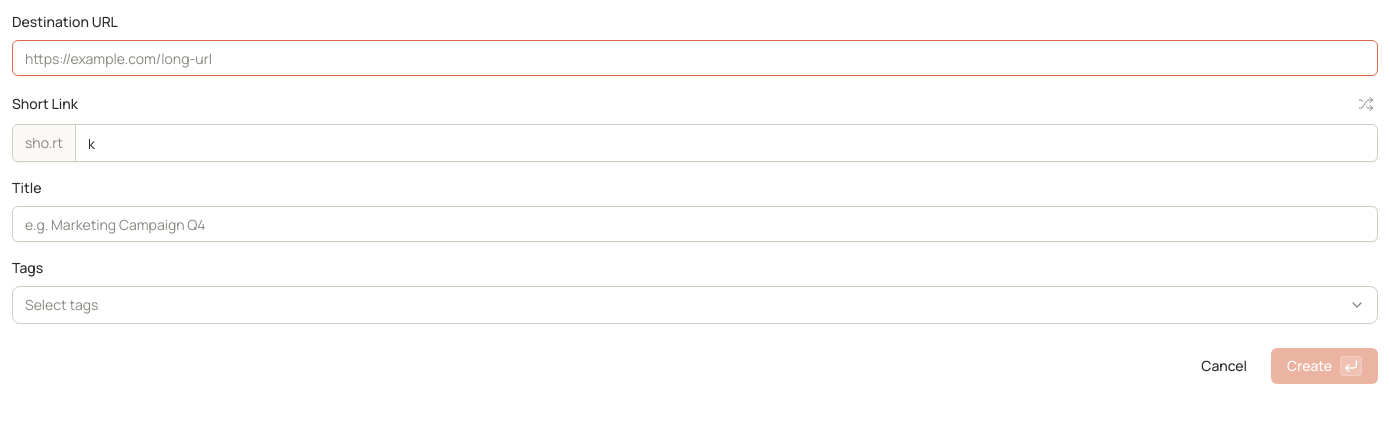
Test: LinkFormFields › submission › does not submit and reports an invalid URL
This screenshot has width=1390, height=421.
Type "invalid url" into the field labelled "Destination URL". click: (695, 58)
box: [12, 40, 1378, 76]
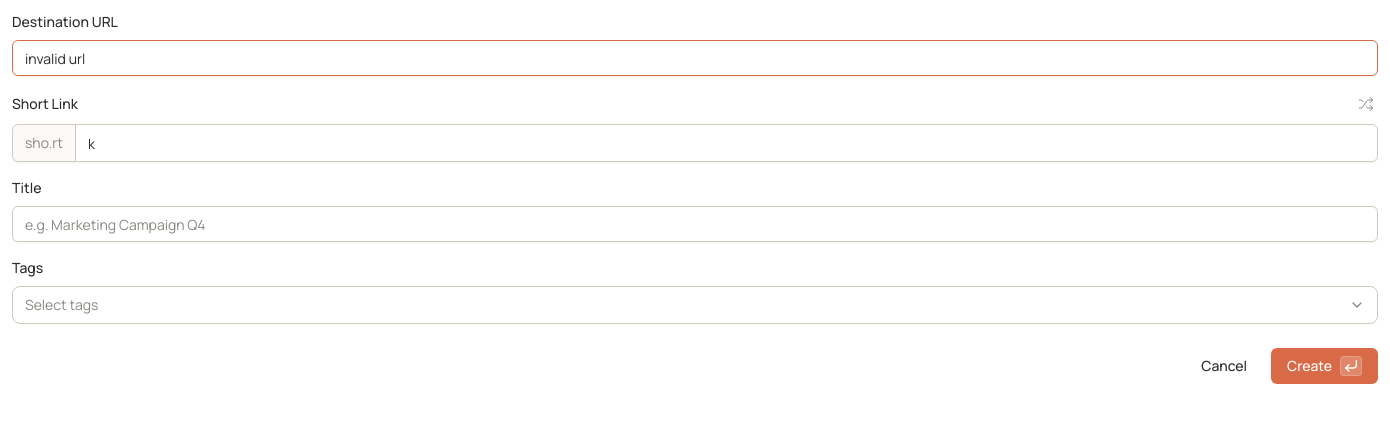
Click the button "Create". click: (1325, 366)
box: [1271, 348, 1378, 384]
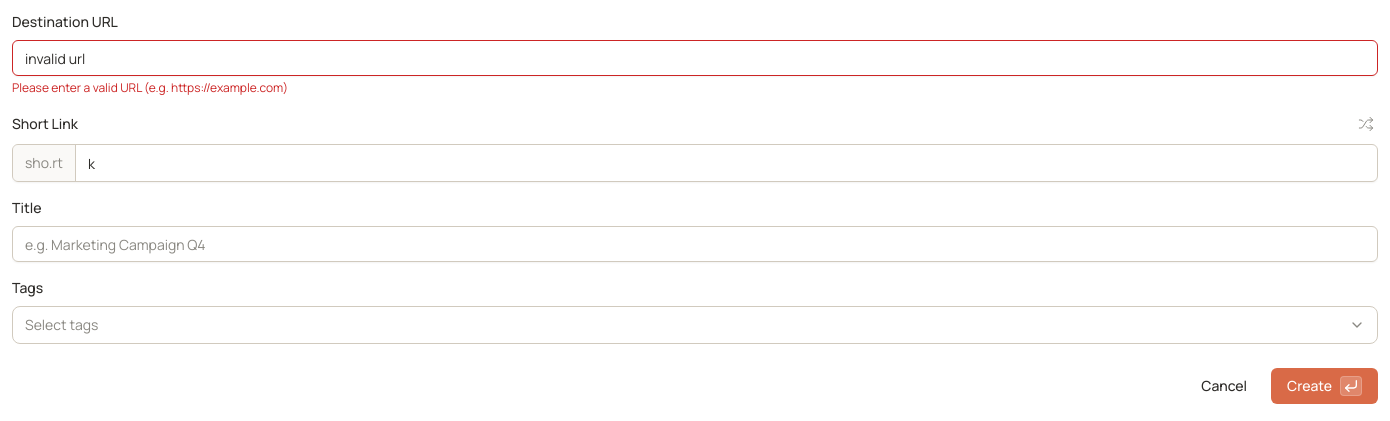
Now the text "Please enter a valid URL (e.g. https://example.com)" is shown, box [12, 79, 288, 96]
